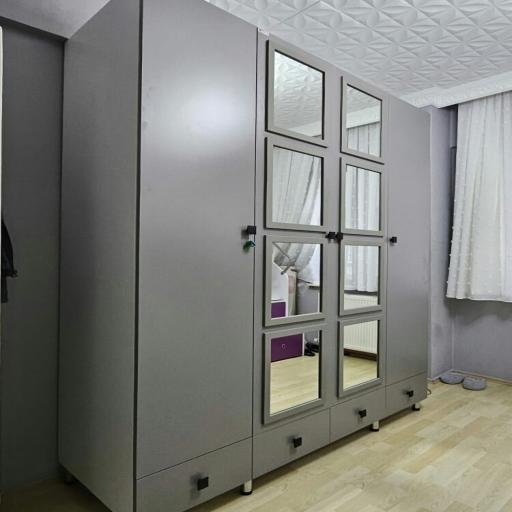bus: (60, 0, 430, 512)
